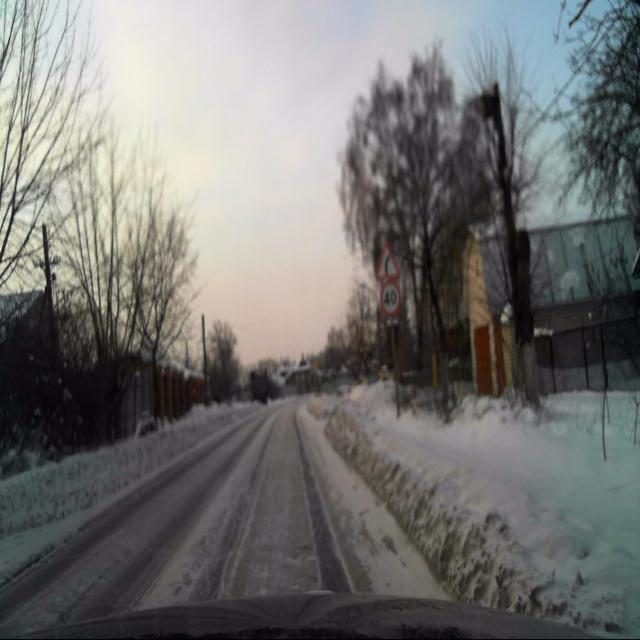road sign: (375, 243, 400, 281)
